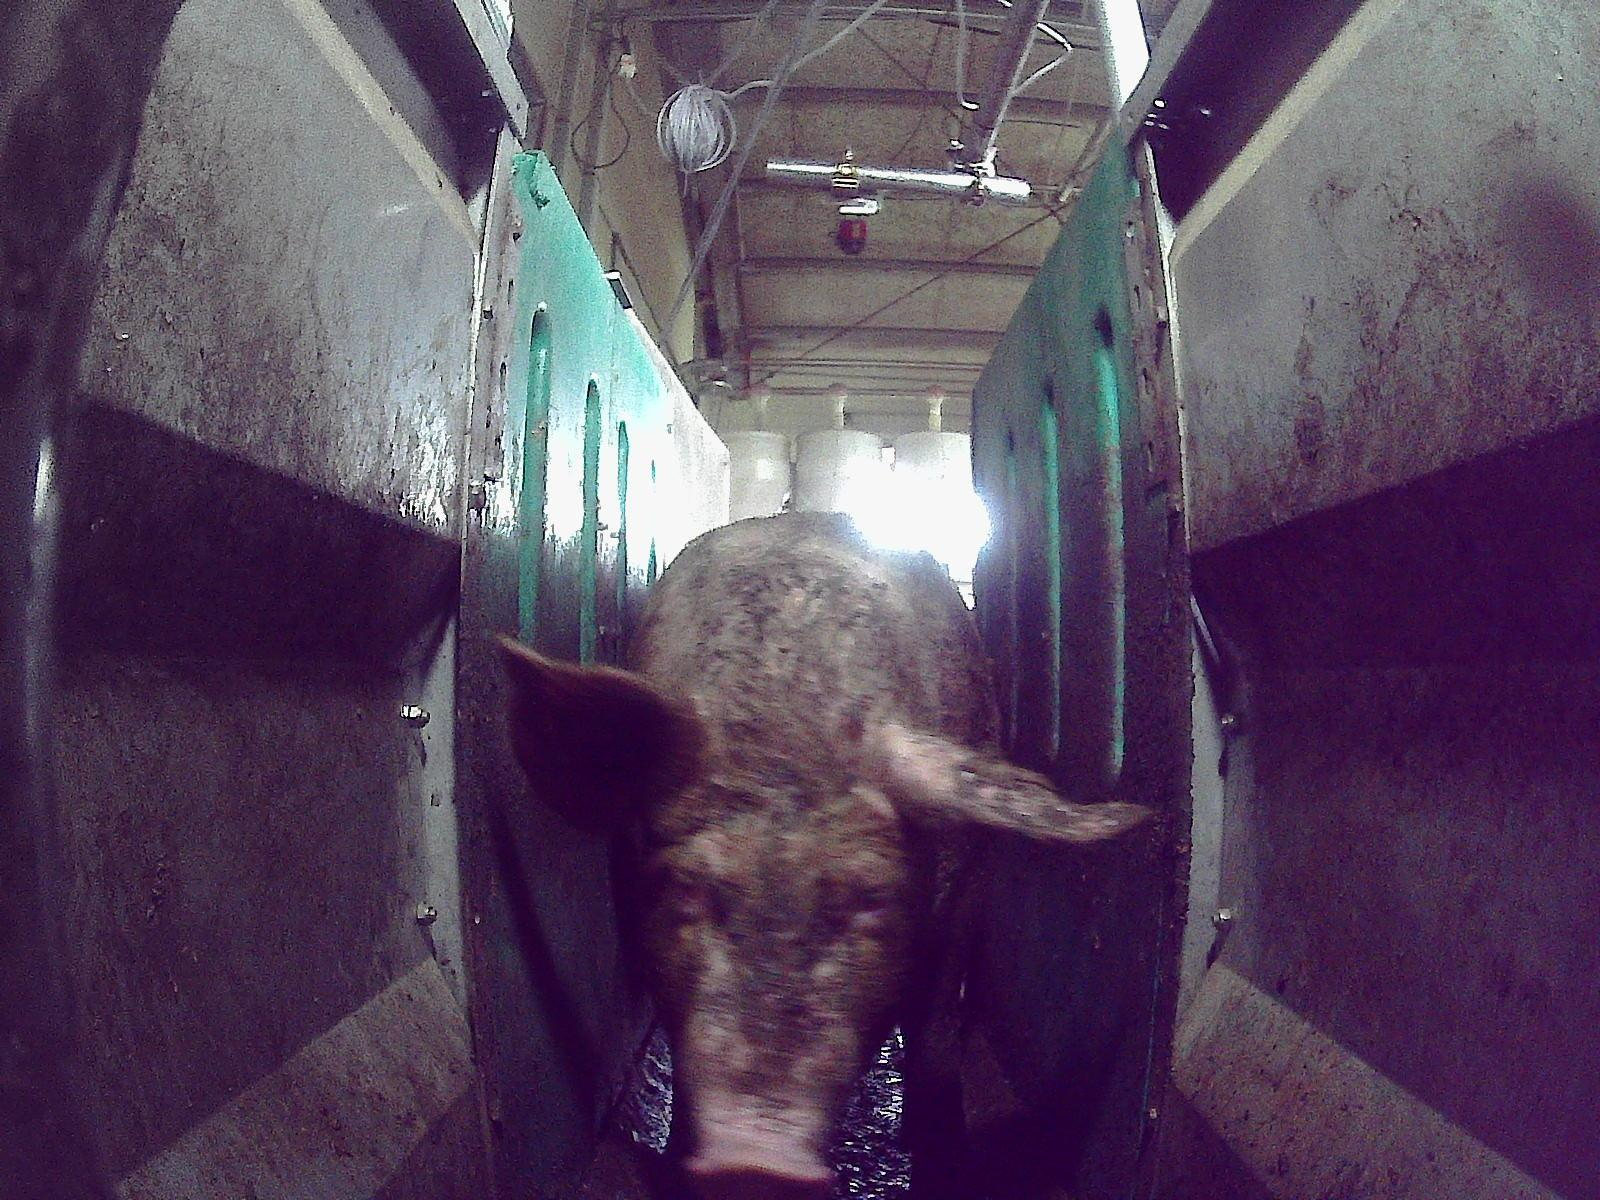Face: (623, 748, 920, 1199)
